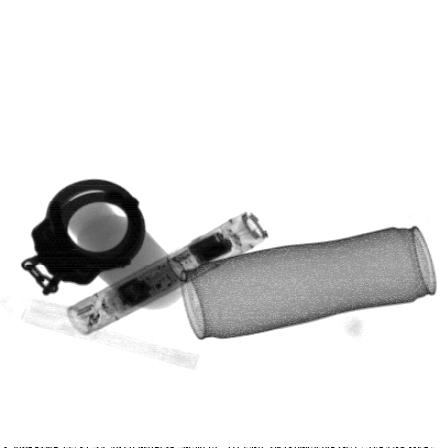Baton: (65, 210, 270, 338)
HandCuffs: (19, 176, 147, 298)
